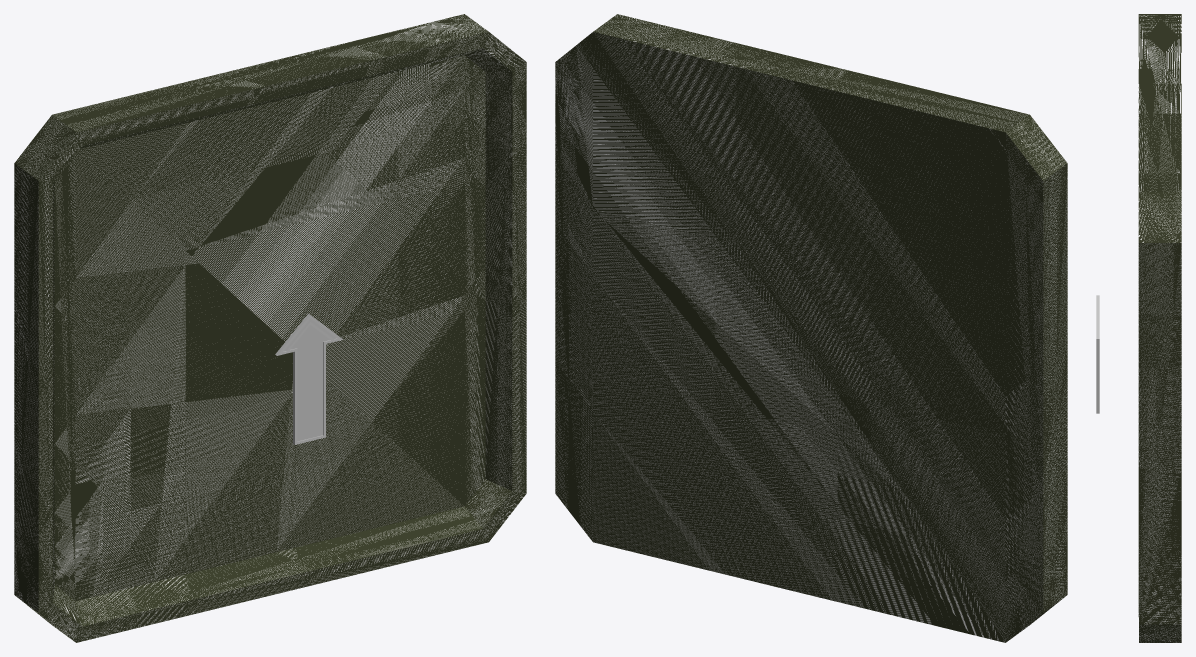
The model's file is CM_-_Ground_Main_Attack.obj.
The picture shows the model from 3 angles, left to right: view 1: azimuth 30°, elevation 25°; view 2: azimuth 150°, elevation 25°; view 3: azimuth 270°, elevation 25°; orthographic projection. The views are drawn at different scales.
Visible parts, largest first — view 1: Button.001_ID13, Button_ID3, SM_CM_-_Ground_Main_Attack_mesh.025; view 2: Button_ID3; view 3: Button_ID3, SM_CM_-_Ground_Main_Attack_mesh.025.
Part boxes in pixels (<box>): Button.001_ID13: <box>53,48,512,626</box>; Button_ID3: <box>14,14,526,642</box>; SM_CM_-_Ground_Main_Attack_mesh.025: <box>275,313,343,444</box>; Button_ID3: <box>555,14,1067,642</box>; Button_ID3: <box>1138,14,1181,642</box>; SM_CM_-_Ground_Main_Attack_mesh.025: <box>1096,295,1099,413</box>.
Size of the model in its own units: 1 by 1 by 0.1721.
